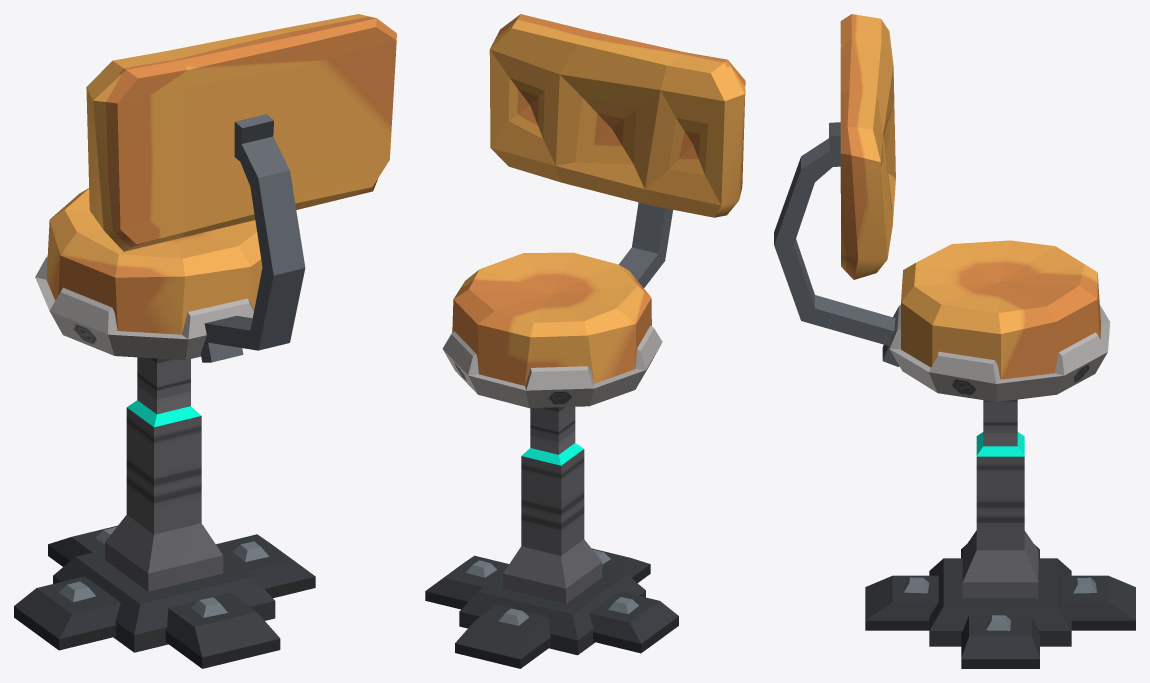
File: SM_Prop_Stool_02.fbx
The picture shows the model from 3 angles, left to right: view 1: azimuth 30°, elevation 25°; view 2: azimuth 150°, elevation 25°; view 3: azimuth 270°, elevation 25°; orthographic projection. The views are drawn at different scales.
Visible parts, largest first — view 1: SM_Prop_Stool_02; view 2: SM_Prop_Stool_02; view 3: SM_Prop_Stool_02.
Part boxes in pixels (<box>): SM_Prop_Stool_02: <box>14,14,396,668</box>; SM_Prop_Stool_02: <box>425,14,745,668</box>; SM_Prop_Stool_02: <box>774,14,1135,668</box>.
Size of the model in its own units: 63.38 by 128 by 76.26.
